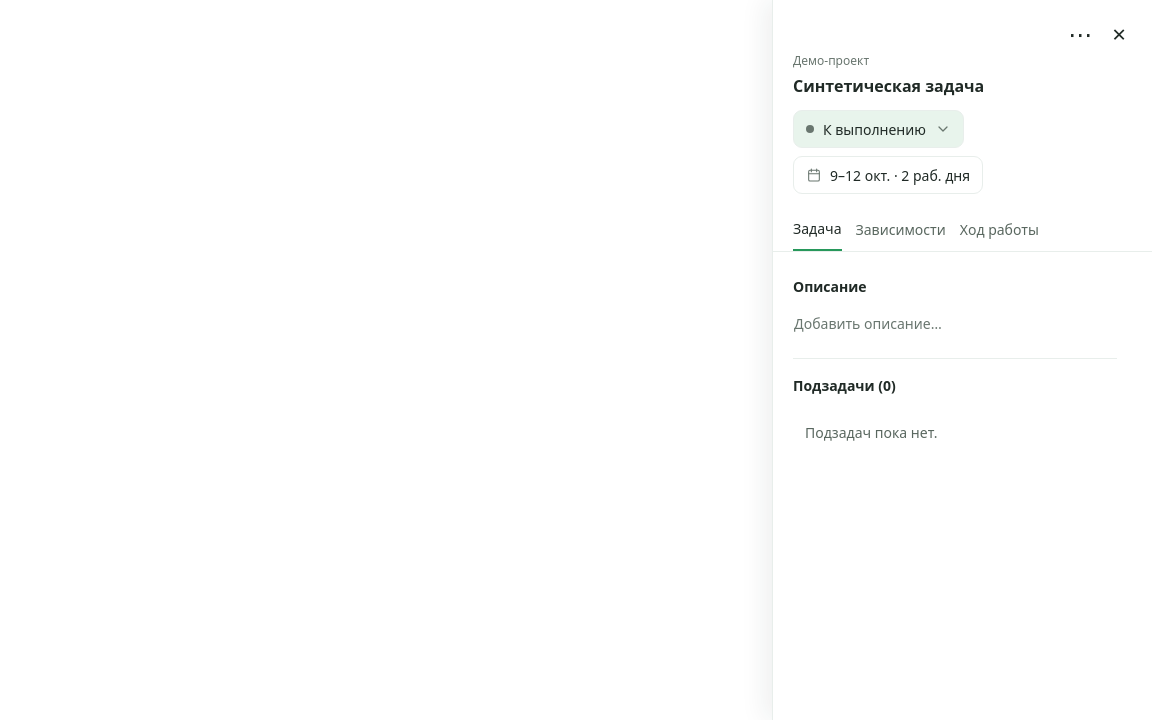
Test case: preserves invalid raw, error, DOM and dirty across Escape and tabs; footer repairs the addressed field
The image size is (1152, 720).
Click the button with aria-label "Сроки задачи:" at (888,175), box [793, 156, 983, 194]
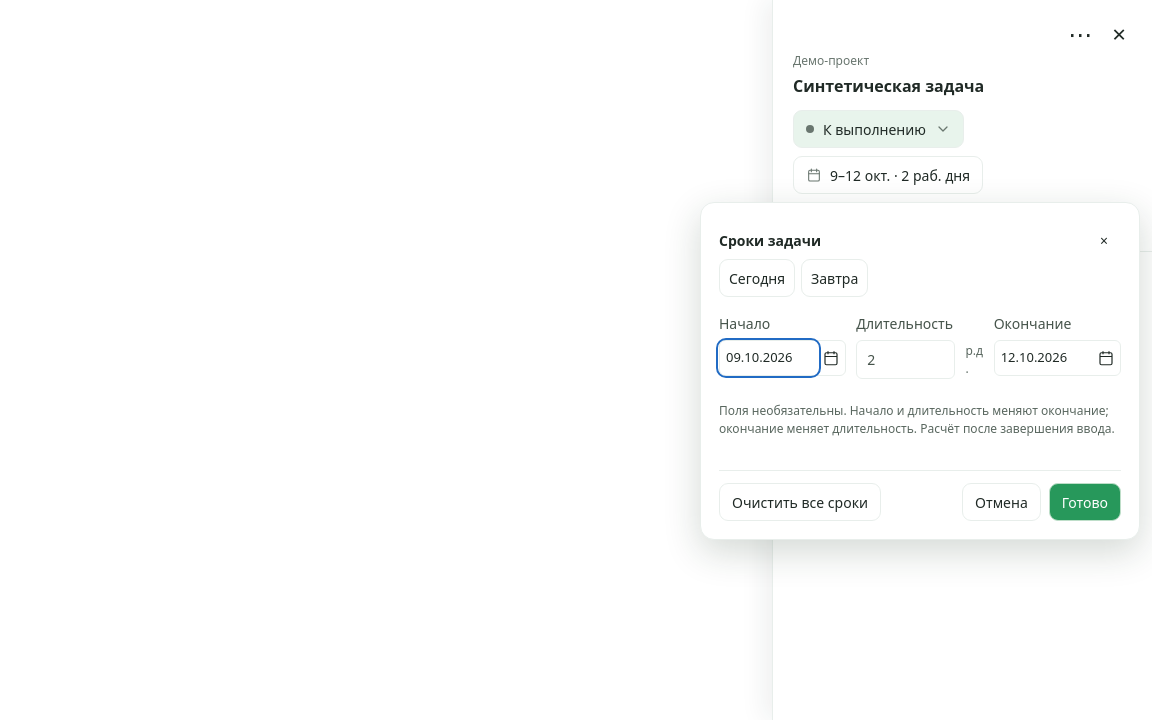
Replace the text in the field labelled "Начало" with "31.02.2026" at (769,358), box [720, 342, 817, 374]
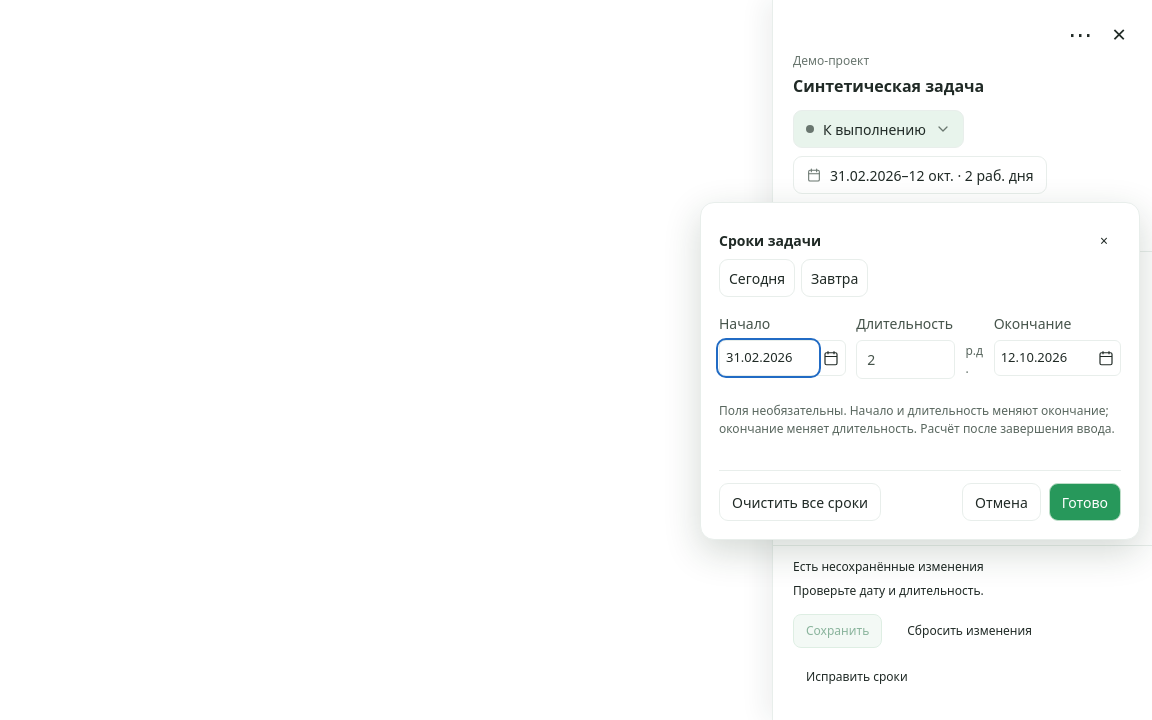
Press Escape
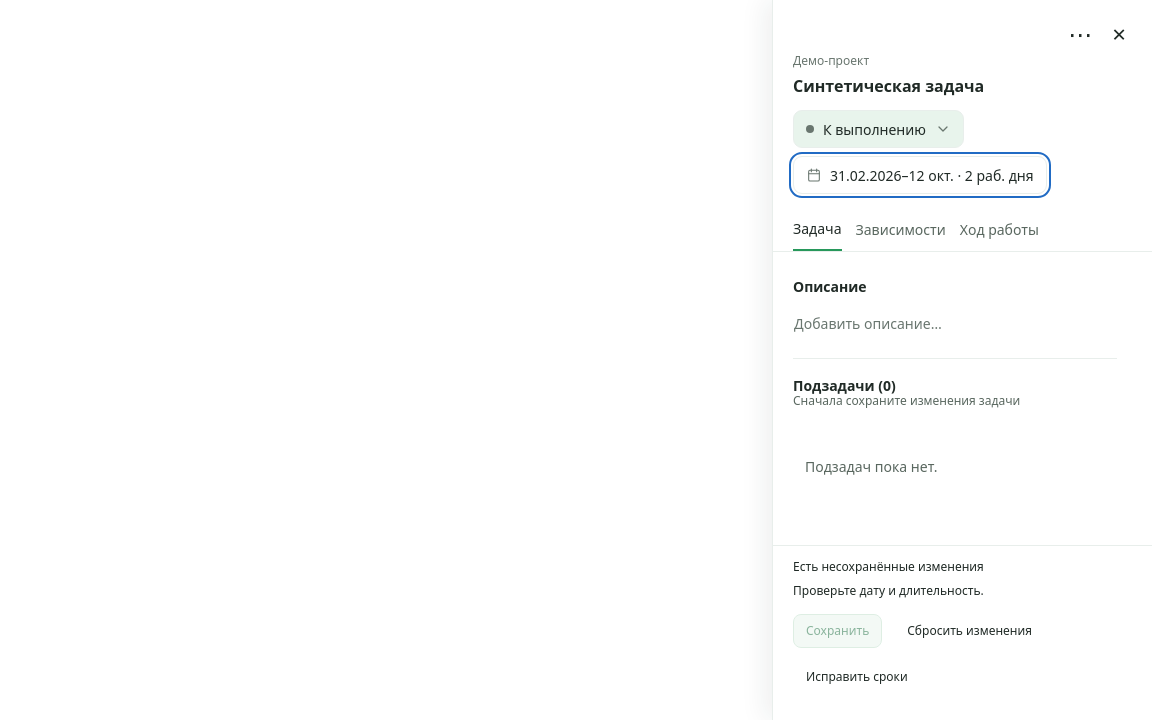
Now the button "Сохранить" is disabled, box [793, 614, 882, 648]
Click the tab "Ход работы" at (999,230), box [960, 208, 1039, 251]
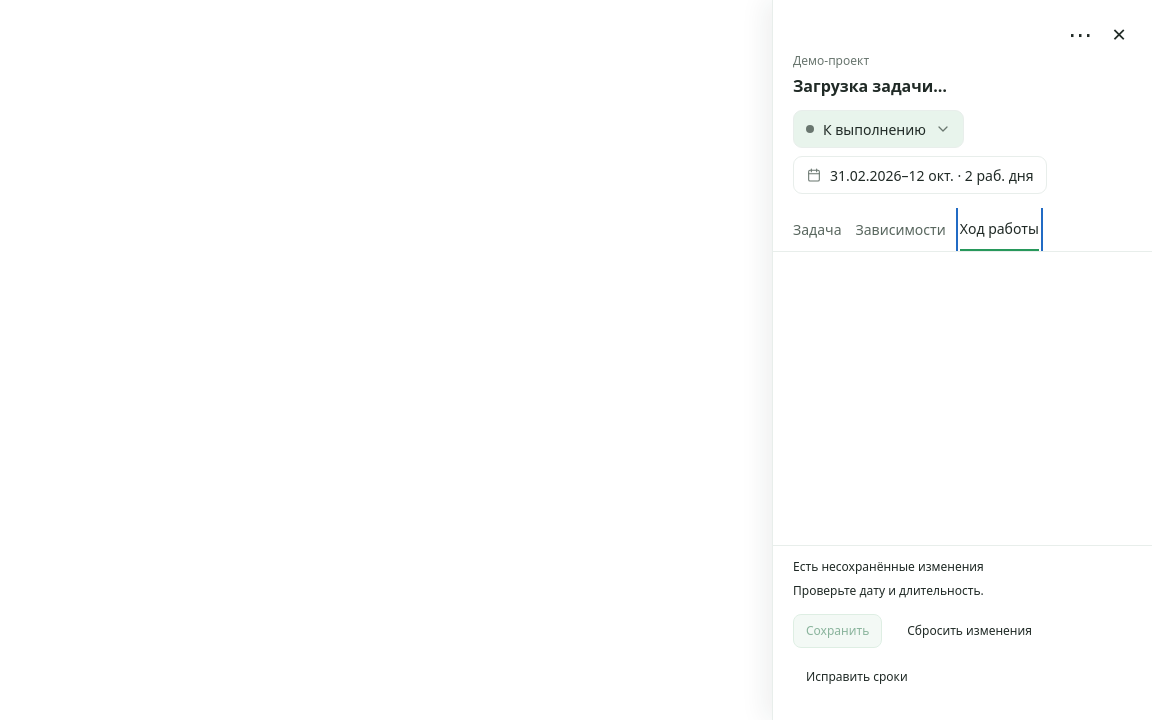
Click the button "Исправить сроки" at (857,677), box [793, 660, 921, 694]
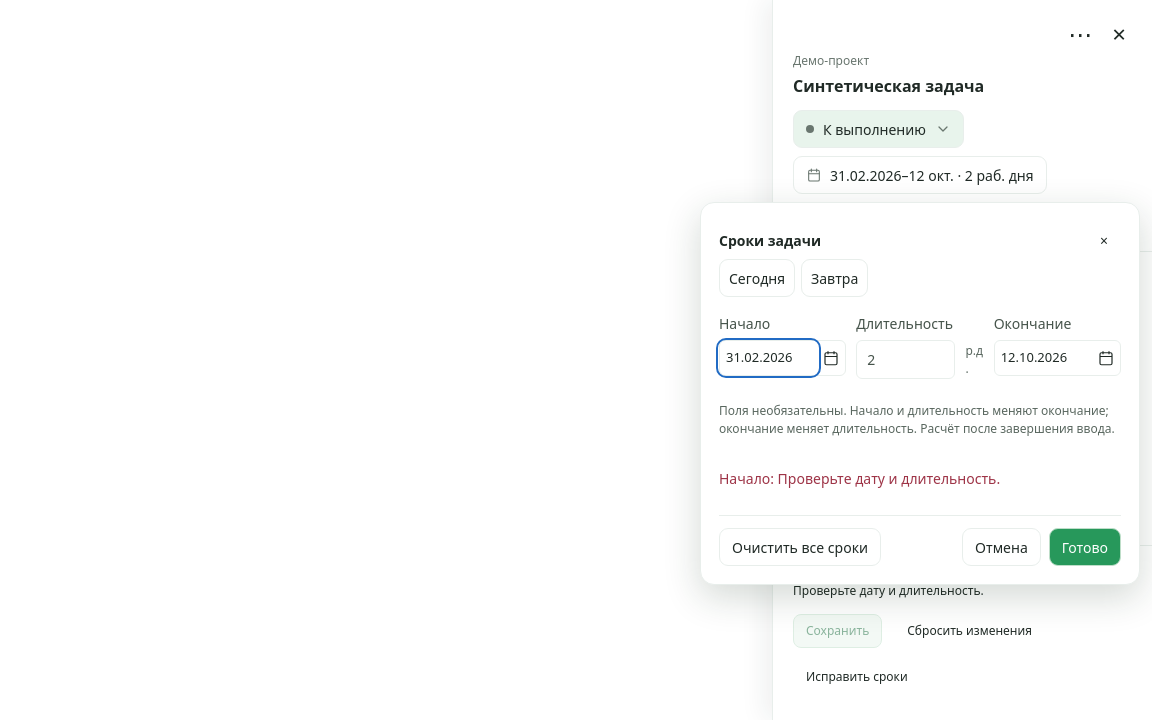
Now the message "Начало: Проверьте дату и длительность." is shown, box [719, 469, 1000, 488]
